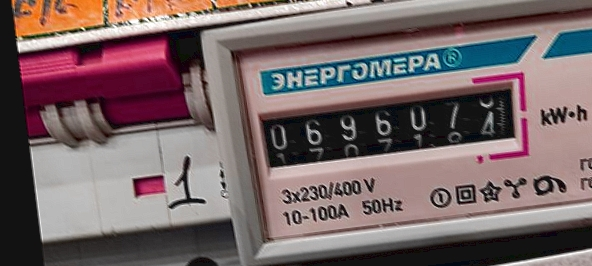0: (265, 119, 289, 151), (406, 101, 428, 132)
4: (474, 108, 496, 139)
6: (370, 105, 394, 139), (301, 115, 323, 146)
7: (440, 96, 462, 129)
9: (335, 111, 359, 142)
screen: (244, 64, 536, 189)
